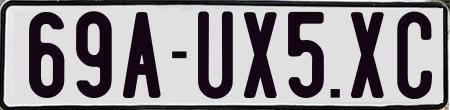5: (285, 12, 327, 100)
6: (27, 12, 64, 100)
9: (75, 8, 111, 101)
A: (121, 11, 162, 102)
C: (397, 10, 433, 101)
U: (197, 9, 233, 97)
X: (242, 9, 276, 100), (351, 10, 385, 96)
